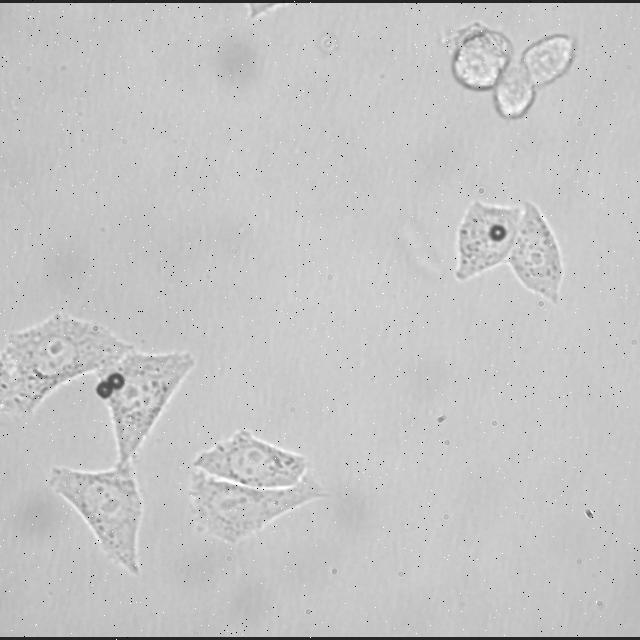microbeads: (488, 224, 506, 242), (110, 371, 126, 389), (98, 382, 112, 400)
